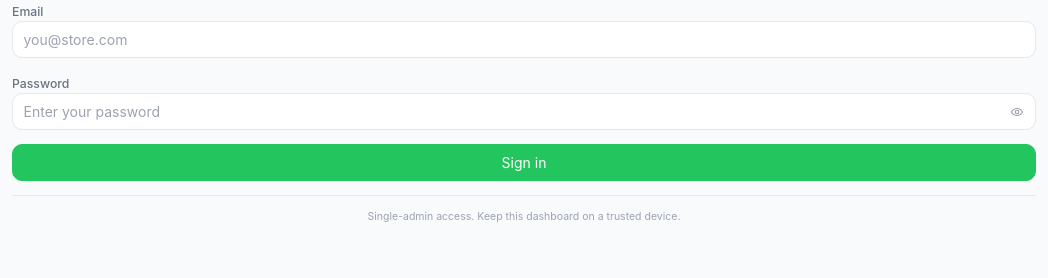
shows validation errors when submitted empty
Click the button "Sign in": (524, 162) [12, 144, 1036, 181]
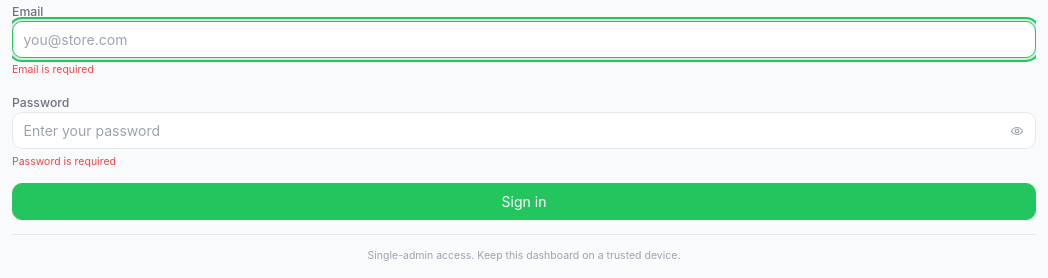
Expected: the text "Email is required" is shown, [12, 63, 94, 76]
Expected: the text "Password is required" is shown, [12, 154, 116, 168]
